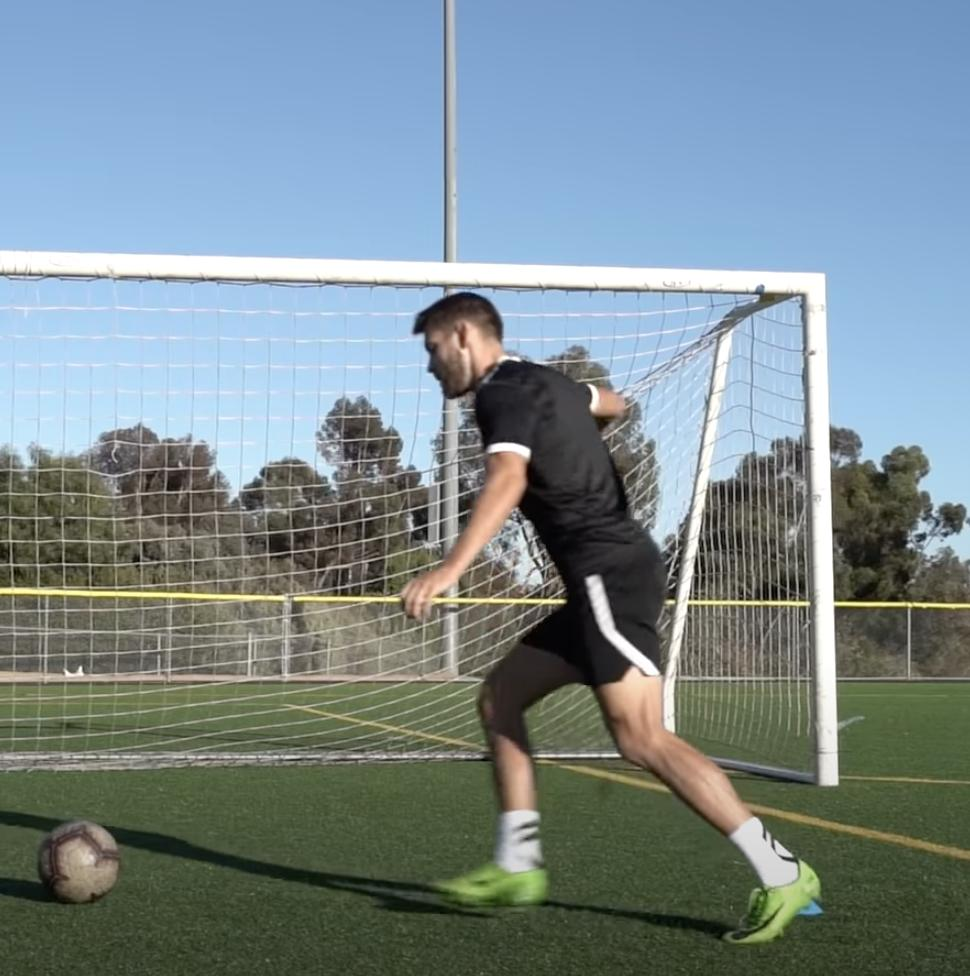ball: (42, 822, 122, 903)
foot: (724, 861, 819, 945), (430, 860, 548, 912)
person: (396, 292, 818, 946)
